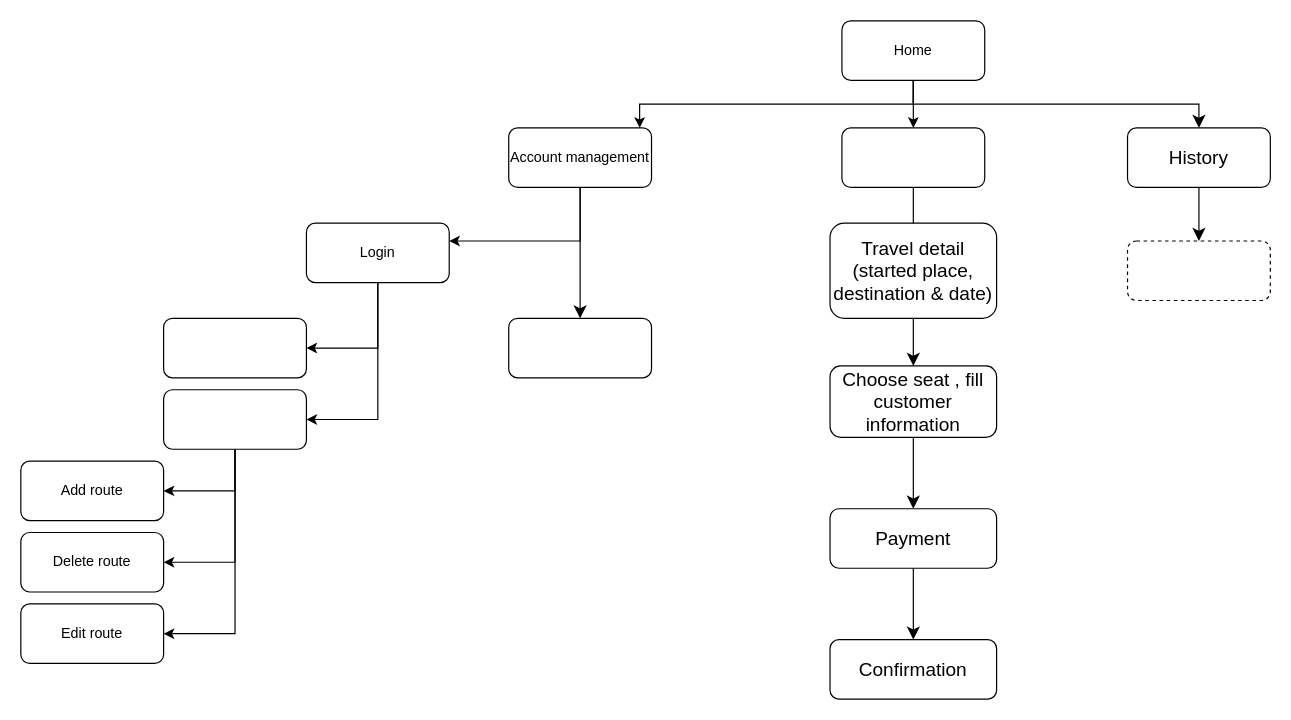
Some shapes in this 1291 by 720 pixel diagram are drawn without their labels. Here are the shapes that lost their labels. From the top down, the box of each, then its label:
(841, 127, 985, 187): Book a trip
(1126, 240, 1270, 300): Ticket information
(162, 317, 306, 378): Customer/User
(508, 317, 652, 378): Sign in
(162, 389, 306, 449): Admin
